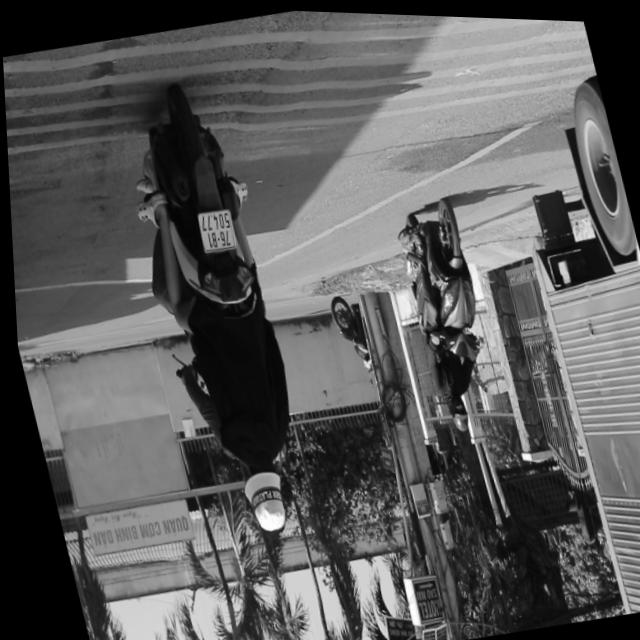helmet: (441, 389, 469, 430)
licenseplate: (103, 81, 329, 547), (382, 188, 508, 435)
motorcyclist: (230, 455, 290, 536)
nohelmet: (193, 207, 236, 252)
